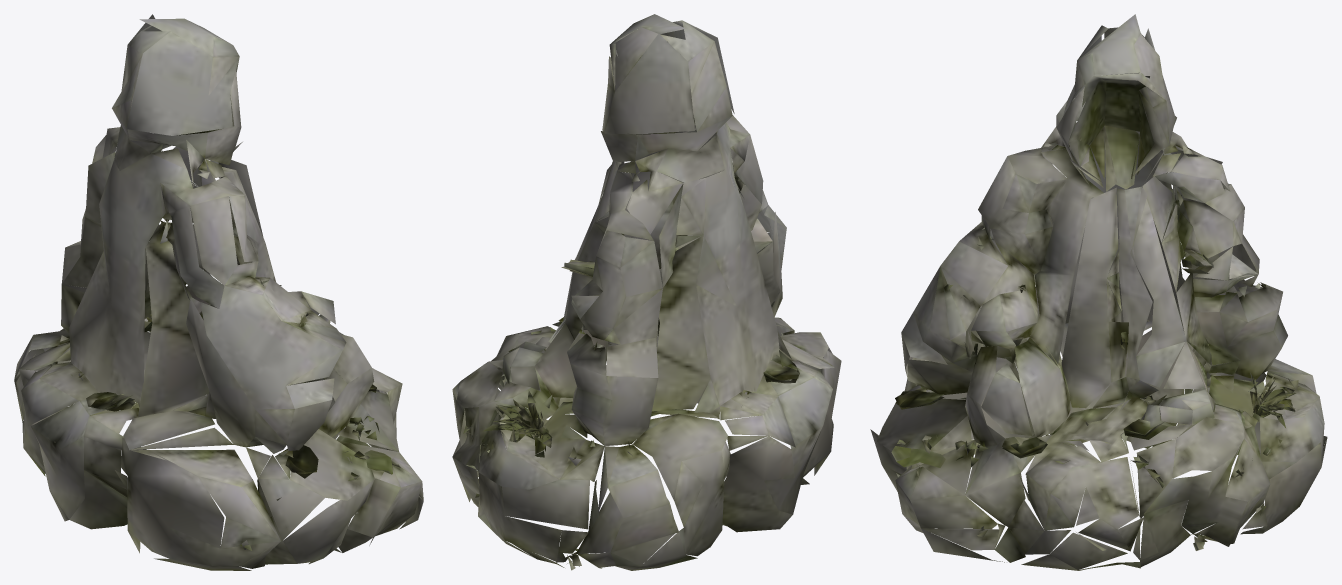
File: stat_monk.glb
3 renders of one model, left to right at view 1: azimuth 30°, elevation 25°; view 2: azimuth 150°, elevation 25°; view 3: azimuth 270°, elevation 25°, orthographic. The views are drawn at different scales.
Visible parts, largest first — view 1: tripo_node_373333c8-8c6d-41f9-a3ac-03f7e440e52a; view 2: tripo_node_373333c8-8c6d-41f9-a3ac-03f7e440e52a; view 3: tripo_node_373333c8-8c6d-41f9-a3ac-03f7e440e52a.
Part boxes in pixels (box(x1,y1,x2,y2)): tripo_node_373333c8-8c6d-41f9-a3ac-03f7e440e52a: box(14, 14, 423, 570); tripo_node_373333c8-8c6d-41f9-a3ac-03f7e440e52a: box(452, 14, 841, 570); tripo_node_373333c8-8c6d-41f9-a3ac-03f7e440e52a: box(870, 14, 1327, 570).
Bounding box in the file's own units: 0.756 × 1.02 × 0.9089.
1 material, 1 textured.
